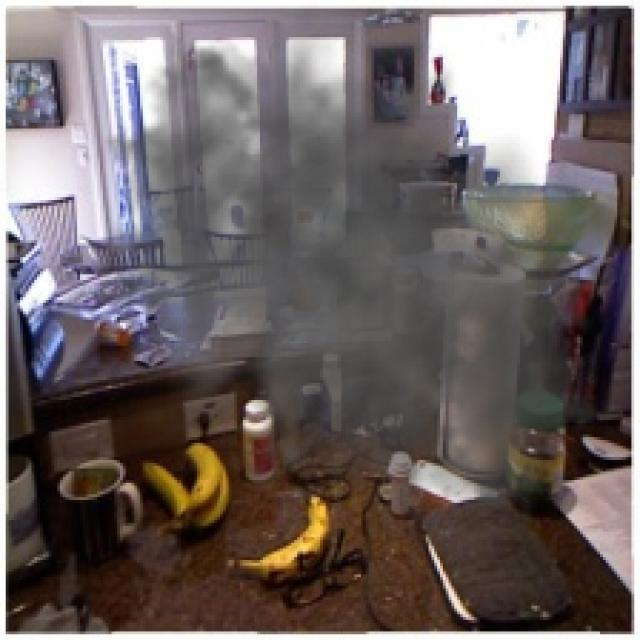Smoke: (68, 2, 634, 554)
